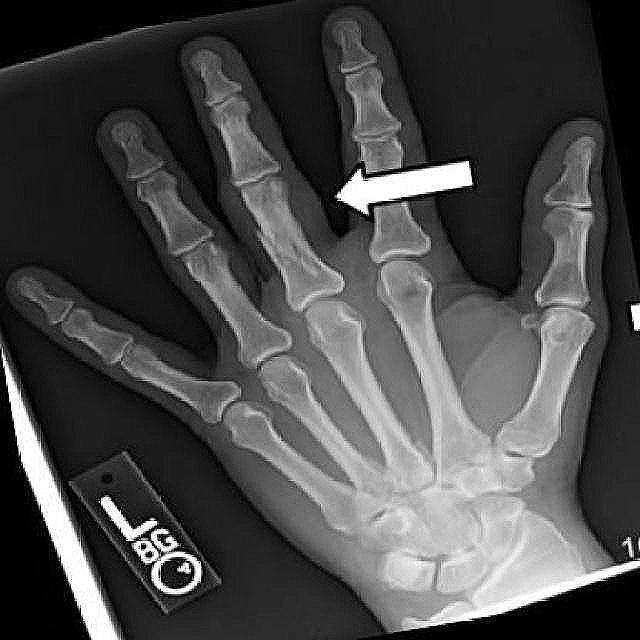bone: (247, 214, 338, 282)
